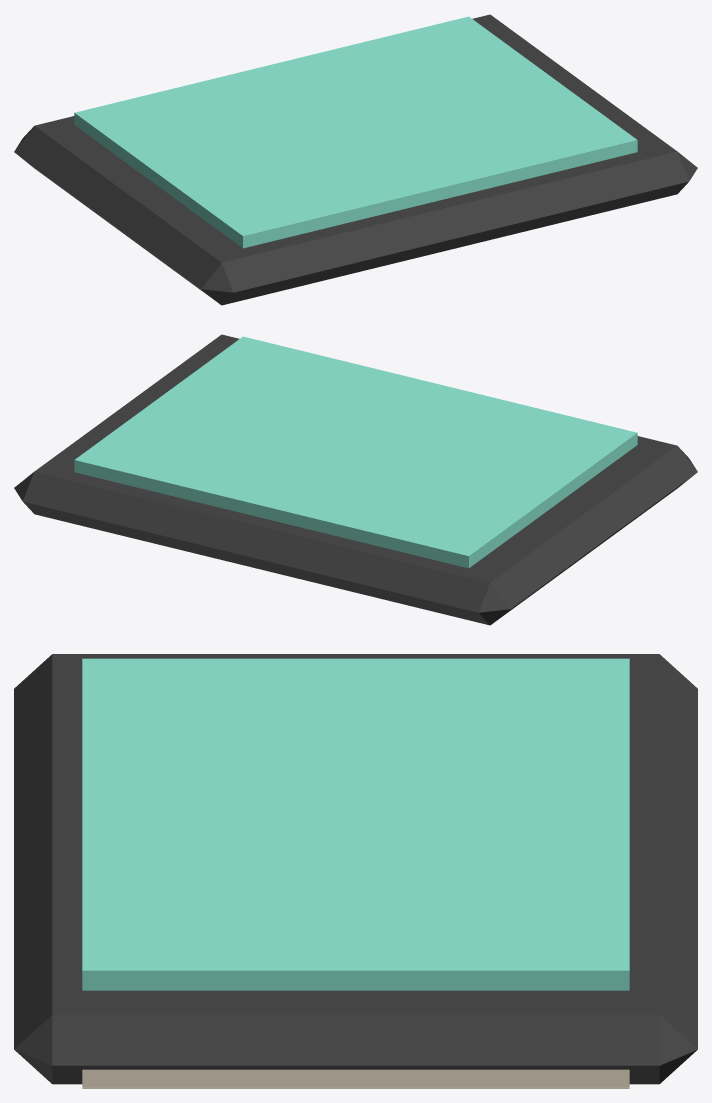
3 renders of one model, top to bottom at view 1: azimuth 30°, elevation 25°; view 2: azimuth 150°, elevation 25°; view 3: azimuth 270°, elevation 25°, orthographic. The views are drawn at different scales.
Visible parts, largest first — view 1: Drawing area, Tablet; view 2: Drawing area, Tablet; view 3: Drawing area, Tablet, Pen.
Boxes of the visible parts, x1,y1,x2,y2 form: Drawing area: (74,16,637,248); Tablet: (14,14,697,305); Drawing area: (74,336,637,568); Tablet: (14,334,697,625); Drawing area: (82,658,629,990); Tablet: (14,654,697,1084); Pen: (82,1069,629,1088).
Size of the model in its own units: 34 by 3.6 by 25.
